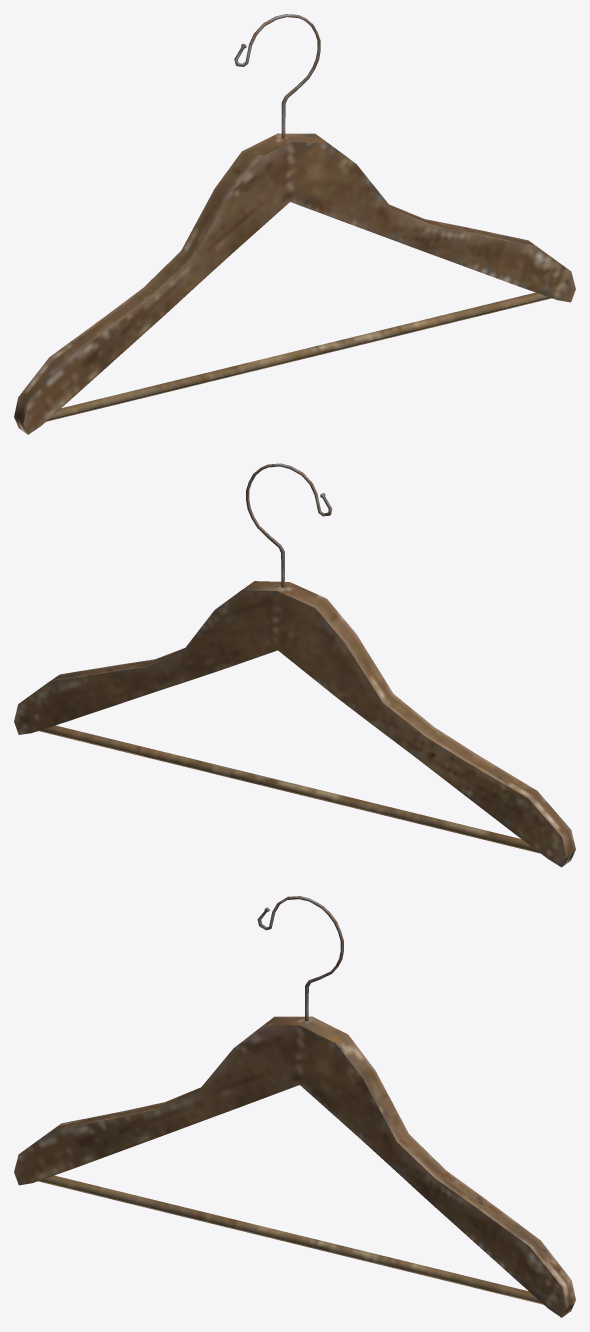
File: 075_Hanger.fbx
The picture shows the model from 3 angles, top to bottom: view 1: azimuth 30°, elevation 25°; view 2: azimuth 150°, elevation 25°; view 3: azimuth 330°, elevation 25°; orthographic projection.
Visible parts, largest first — view 1: LOD_1_Group_0_Sub_1__sm30_075_Hanger01A_A_Mat; view 2: LOD_1_Group_0_Sub_1__sm30_075_Hanger01A_A_Mat; view 3: LOD_1_Group_0_Sub_1__sm30_075_Hanger01A_A_Mat.
Part boxes in pixels (<box>): LOD_1_Group_0_Sub_1__sm30_075_Hanger01A_A_Mat: <box>14,14,575,434</box>; LOD_1_Group_0_Sub_1__sm30_075_Hanger01A_A_Mat: <box>14,463,575,867</box>; LOD_1_Group_0_Sub_1__sm30_075_Hanger01A_A_Mat: <box>14,896,575,1317</box>.
Bounding box in the file's own units: 0.4269 × 0.2523 × 0.0294.
